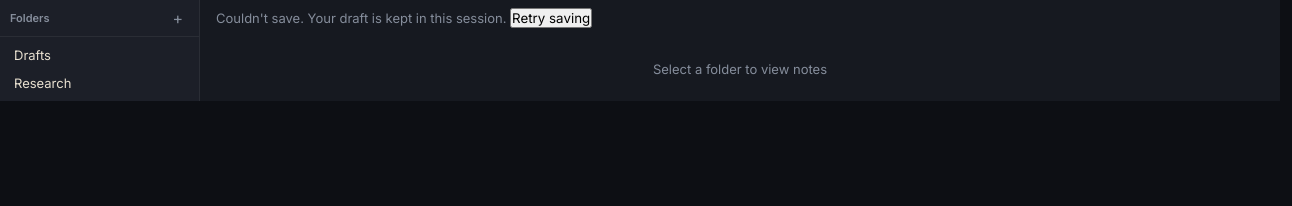
saves an unrelated note even when a retained draft fails, and clears a locally deleted draft
Step 1. Click the button "Drafts" → (32, 55), box [14,47,51,63]
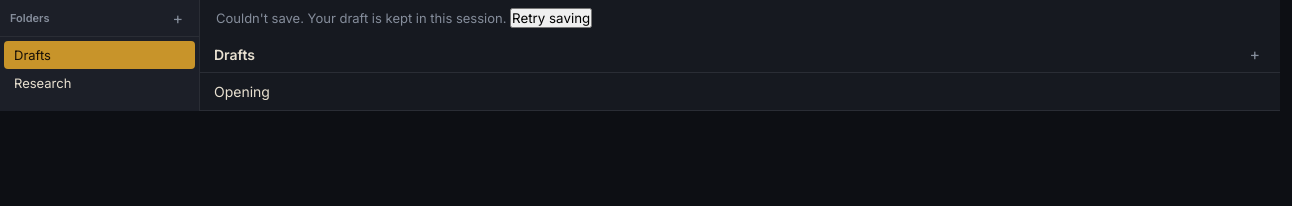
Step 2. Click the text "Opening" → (242, 92), box [214,83,270,100]
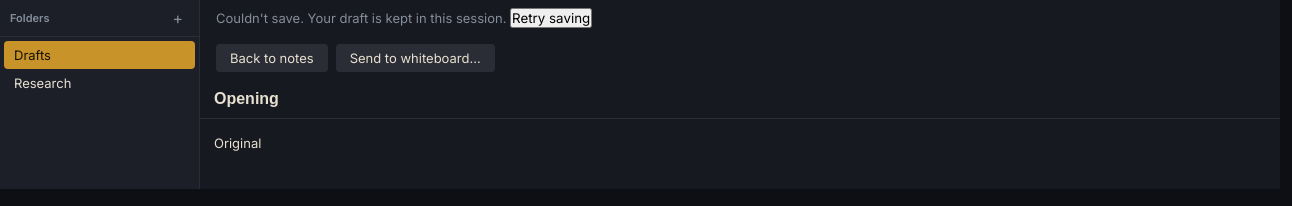
Step 3. Replace the text in the text box with placeholder "Start writing..." with "Independent save" → (740, 154), box [200,119,1280,189]
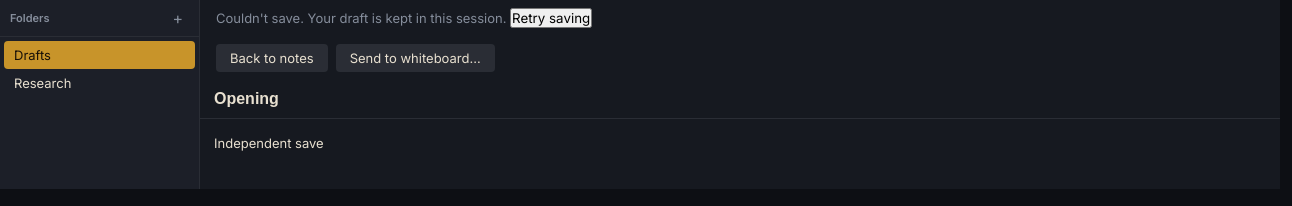
Step 4. Click the button "Research" → (43, 83), box [14,75,71,91]
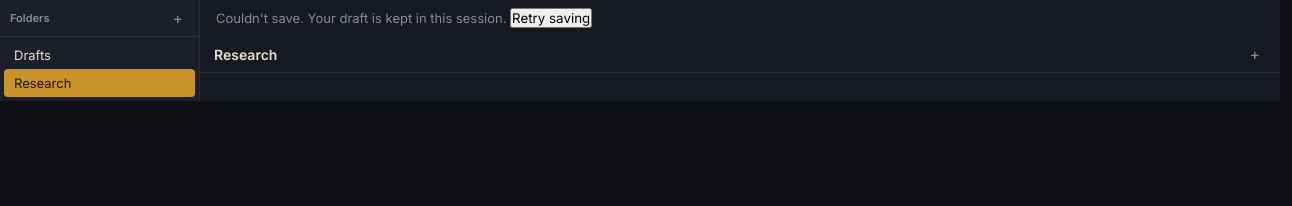
Result: the 2nd button titled "New note" is shown at [1243,44,1266,64]
